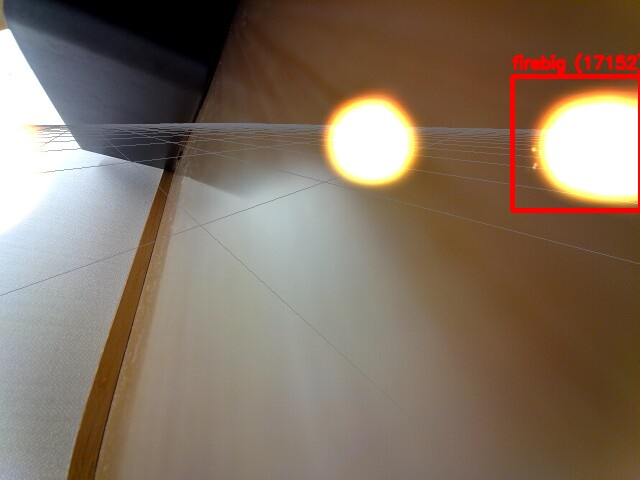firebig: (512, 76, 640, 210)
